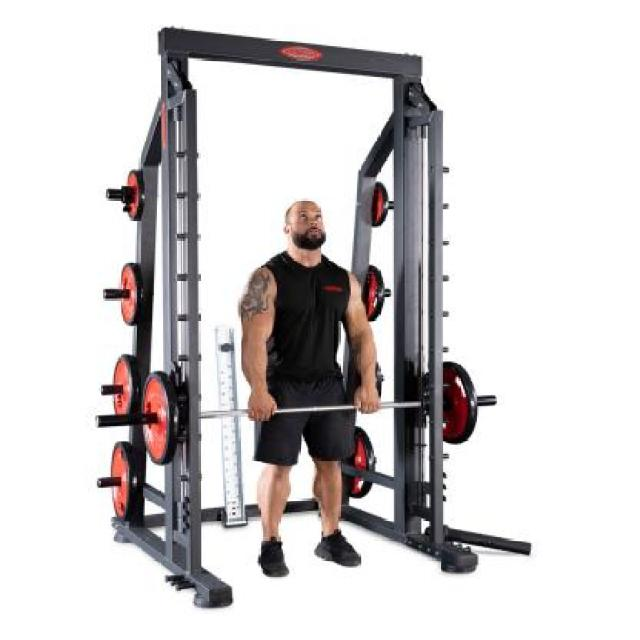smith machine: (97, 28, 531, 610)
